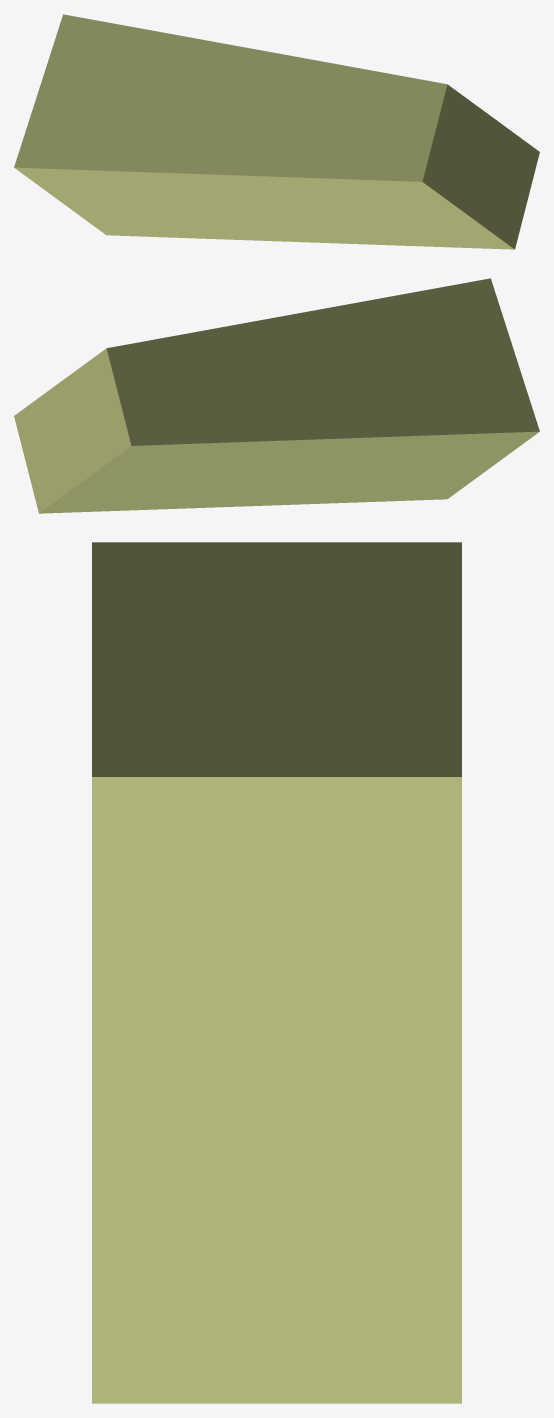
3 views of the same model, one above another, from view 1: azimuth 30°, elevation 25°; view 2: azimuth 150°, elevation 25°; view 3: azimuth 270°, elevation 25° (orthographic). The views are drawn at different scales.
Visible parts, largest first — view 1: 0_1_0_0_2_2_1_2_2_3; view 2: 0_1_0_0_2_2_1_2_2_3; view 3: 0_1_0_0_2_2_1_2_2_3.
Boxes of the visible parts, box(x1,y1,x2,y2) form: 0_1_0_0_2_2_1_2_2_3: box(14, 14, 539, 249); 0_1_0_0_2_2_1_2_2_3: box(14, 278, 539, 513); 0_1_0_0_2_2_1_2_2_3: box(92, 542, 461, 1403).
Bounding box in the file's own units: 16.23 × 9.13 × 6.
